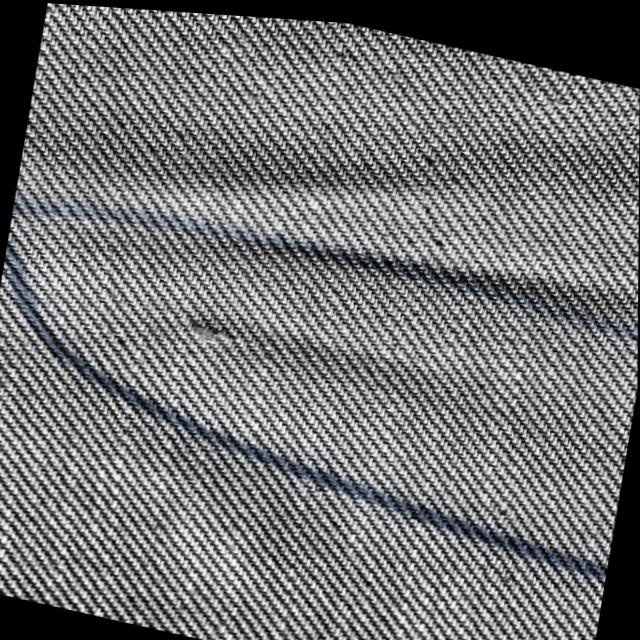Hole: (191, 322, 227, 339)
